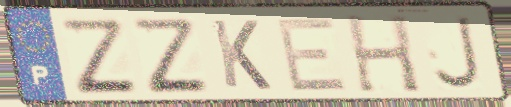E: (273, 14, 351, 93)
H: (342, 12, 424, 95)
J: (430, 13, 485, 92)
K: (208, 17, 275, 93)
Z: (126, 15, 212, 96), (55, 16, 141, 96)
